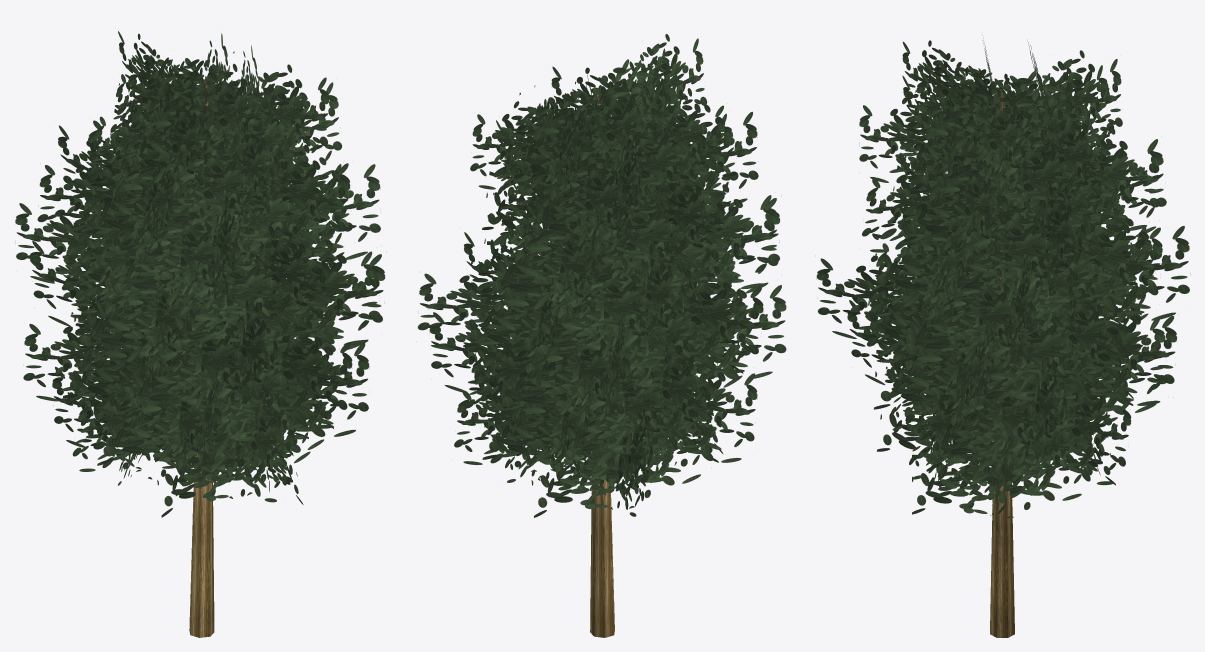
The model's file is tree.glb.
The picture shows the model from 3 angles, left to right: view 1: azimuth 30°, elevation 25°; view 2: azimuth 150°, elevation 25°; view 3: azimuth 270°, elevation 25°; orthographic projection.
Parts seen in each view (by area): view 1: Canopy.1368, Bark.1368; view 2: Canopy.1368, Bark.1368; view 3: Canopy.1368, Bark.1368.
Boxes of the visible parts, left/top/right/bottom form: Canopy.1368: left=15, top=31, right=385, bottom=517; Bark.1368: left=189, top=84, right=214, bottom=637; Canopy.1368: left=418, top=34, right=786, bottom=517; Bark.1368: left=590, top=88, right=625, bottom=637; Canopy.1368: left=816, top=35, right=1190, bottom=524; Bark.1368: left=965, top=92, right=1014, bottom=637.
Size of the model in its own units: 7.26 by 12.53 by 7.27.
Materials: 2 (2 with a texture image).
